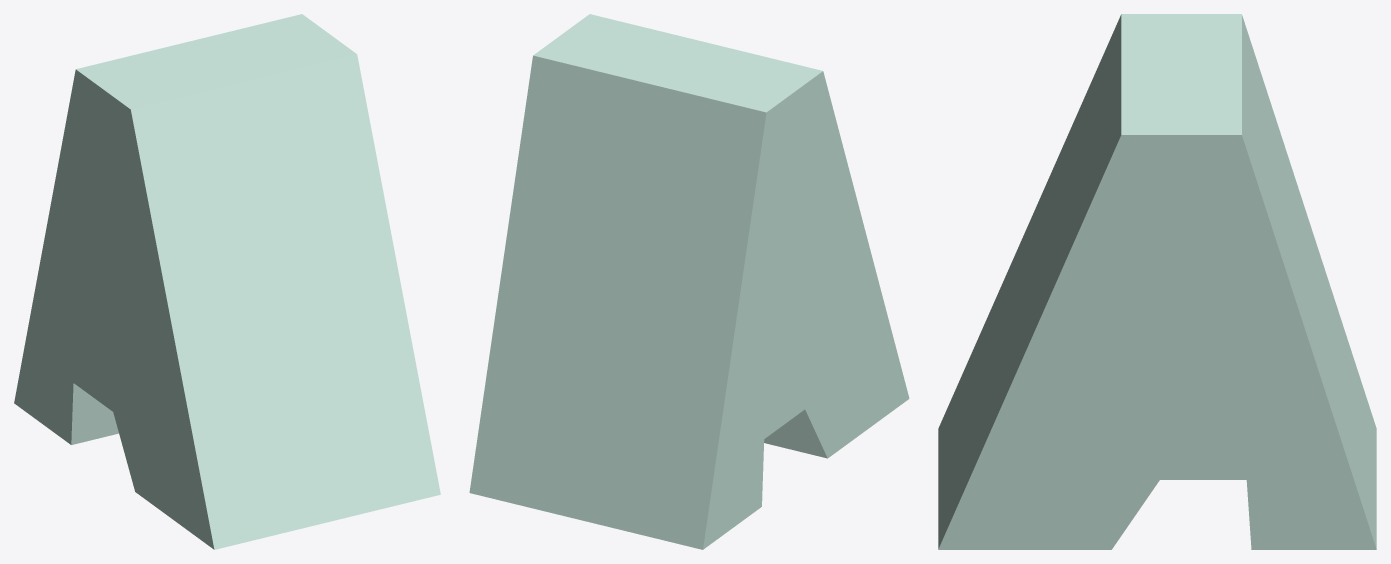
3 views of the same model, side by side, from view 1: azimuth 30°, elevation 25°; view 2: azimuth 150°, elevation 25°; view 3: azimuth 270°, elevation 25° (orthographic). The views are drawn at different scales.
Parts seen in each view (by area): view 1: Renderer Node; view 2: Renderer Node; view 3: Renderer Node.
Part boxes in pixels (<box>): Renderer Node: <box>14,14,440,549</box>; Renderer Node: <box>469,14,909,549</box>; Renderer Node: <box>938,14,1376,549</box>.
Bounding box in the file's own units: 0.4688 × 0.75 × 0.7184.
